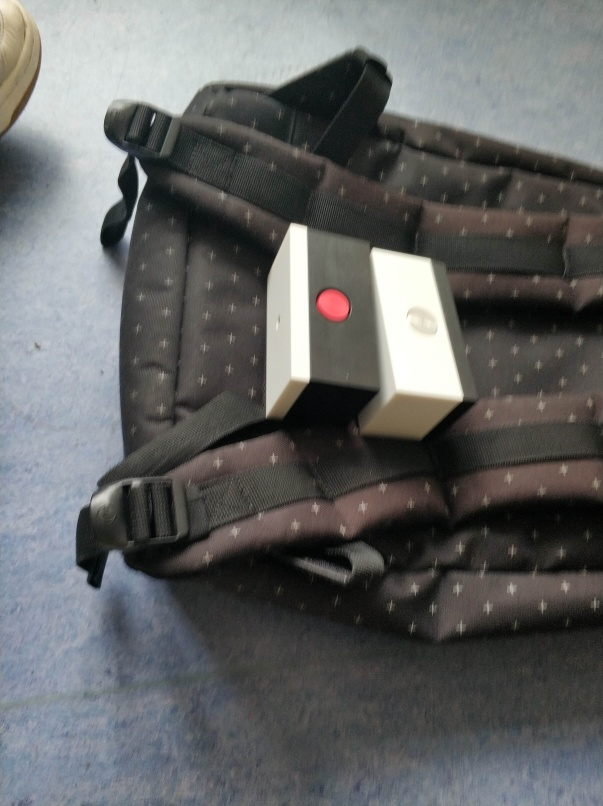black+white+silver: (370, 246, 482, 444)
white+black+red: (260, 218, 376, 427)
